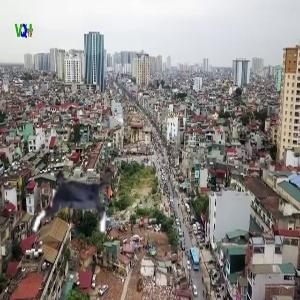drone: (29, 154, 124, 249)
